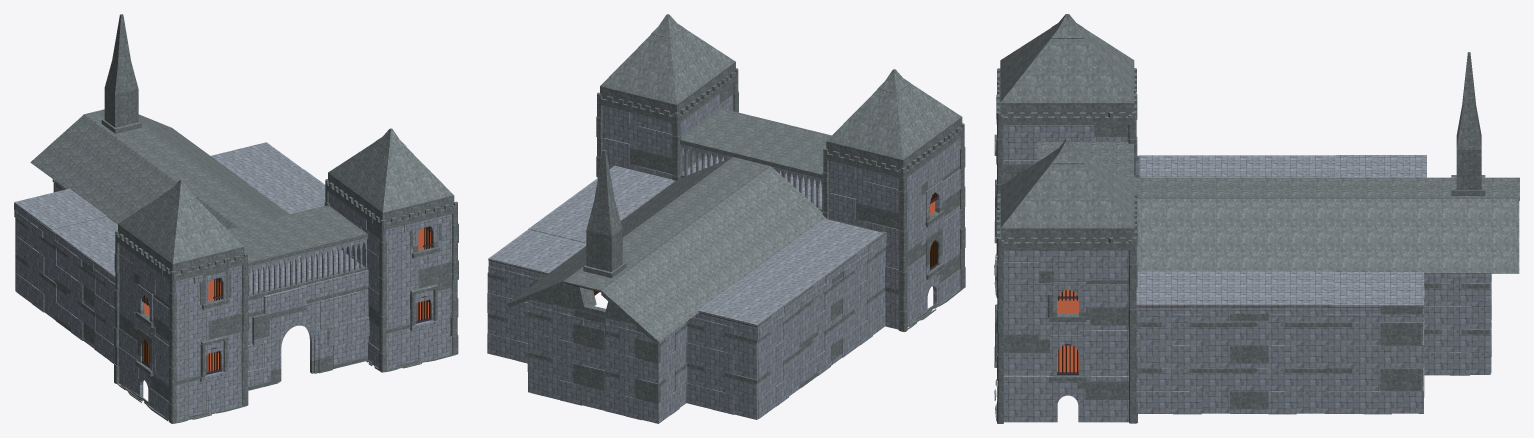
Rendered from GreatHall2.obj.
The picture shows the model from 3 angles, left to right: view 1: azimuth 30°, elevation 25°; view 2: azimuth 150°, elevation 25°; view 3: azimuth 270°, elevation 25°; orthographic projection. The views are drawn at different scales.
Visible parts, largest first — view 1: mergedBlocks; view 2: mergedBlocks; view 3: mergedBlocks.
Boxes of the visible parts, x1,y1,x2,y2 form: mergedBlocks: (14, 14, 458, 423); mergedBlocks: (487, 14, 965, 423); mergedBlocks: (994, 14, 1519, 423).
Bounding box in the file's own units: 16.28 × 12.59 × 20.98.
